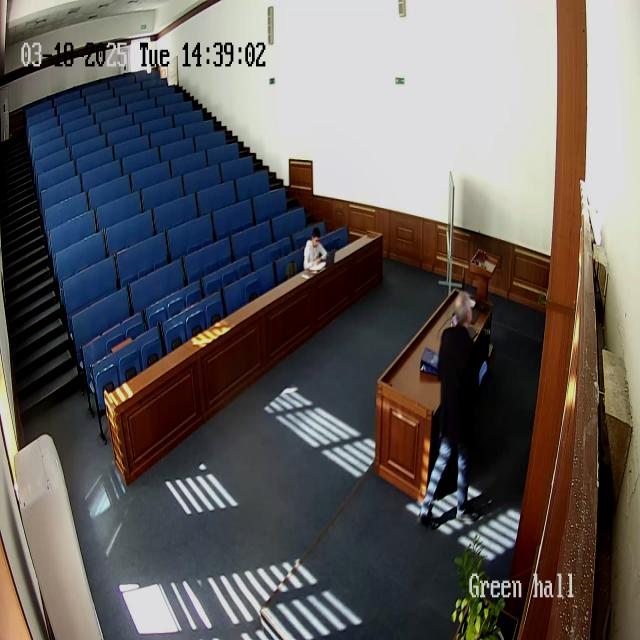person: (420, 292, 484, 527), (302, 227, 328, 273)
